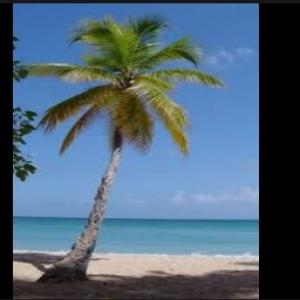palm tree: (15, 12, 224, 282)
